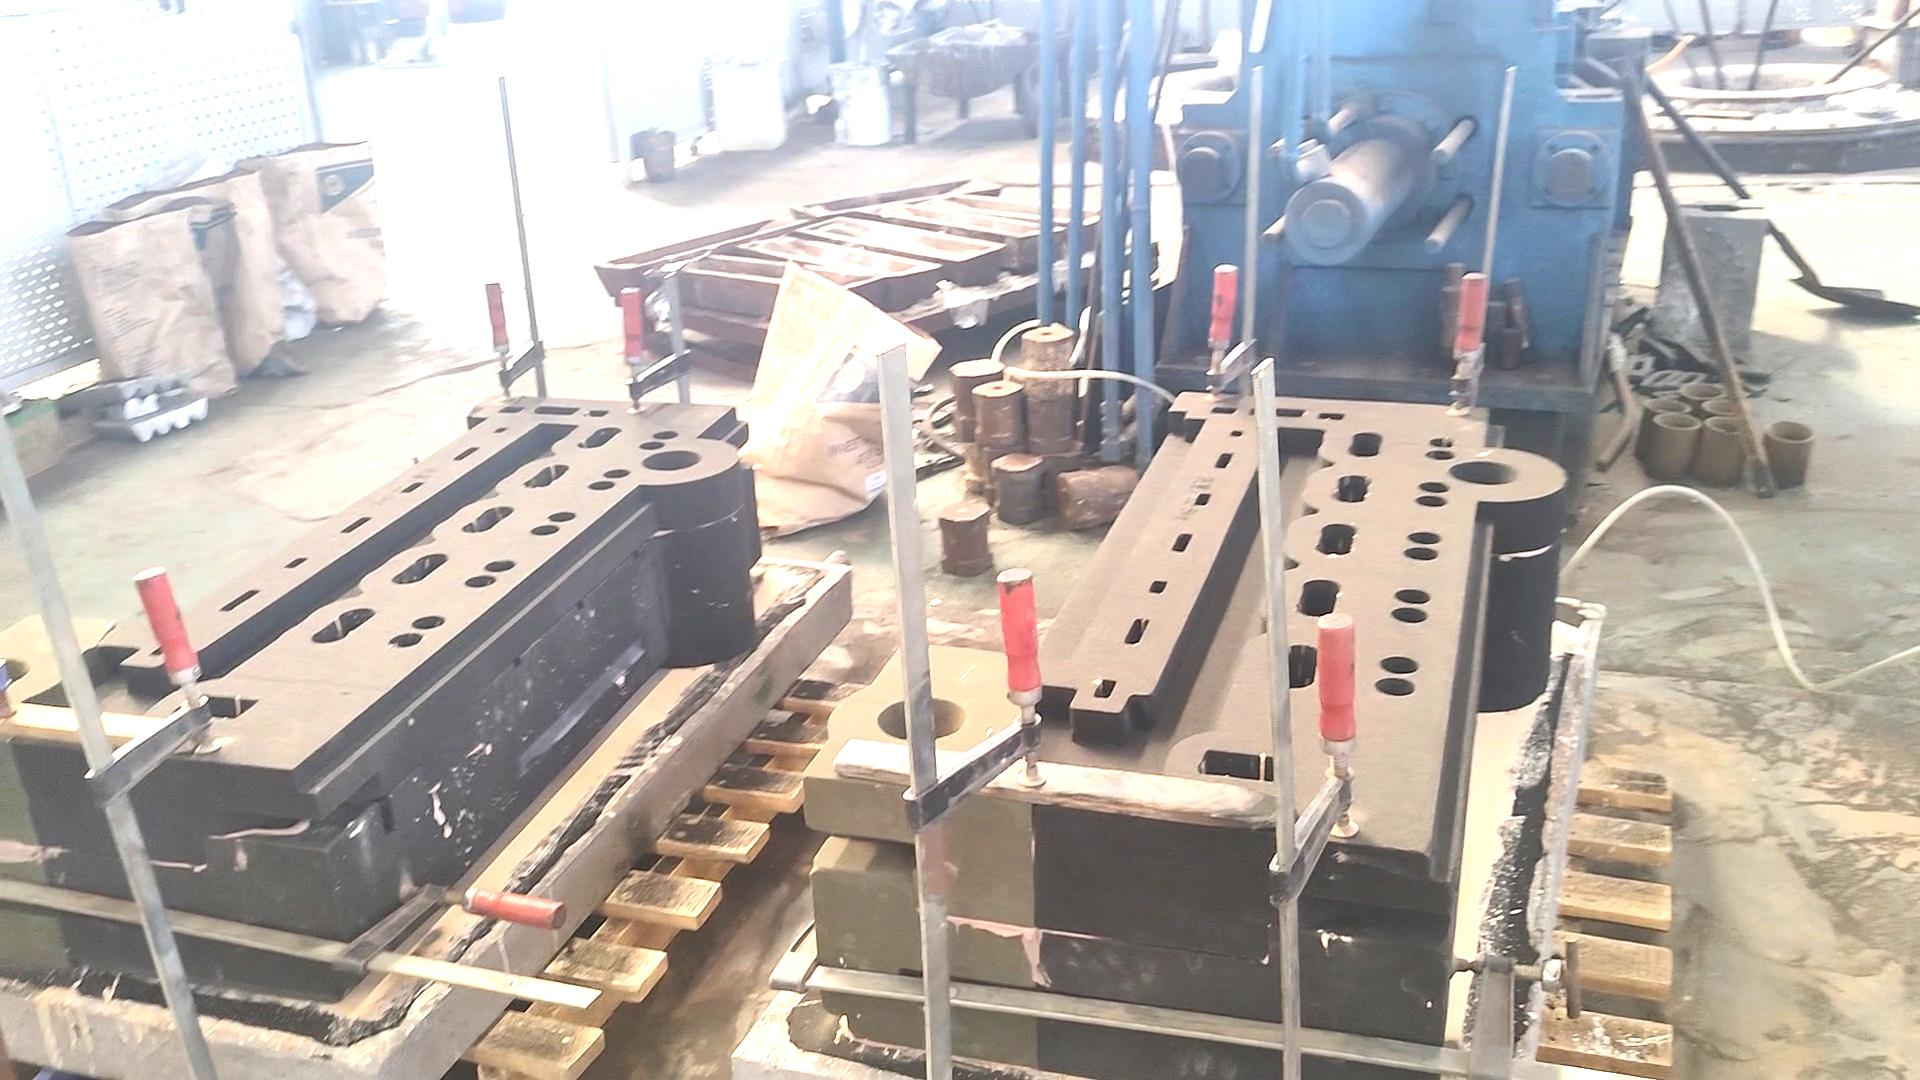pouring hole: (877, 695, 967, 738), (1451, 462, 1520, 484), (641, 448, 703, 471), (1763, 419, 1817, 443), (1702, 417, 1751, 436), (1650, 411, 1702, 429), (1, 659, 32, 688), (1680, 382, 1727, 400), (1700, 398, 1747, 415), (1644, 400, 1691, 413)
